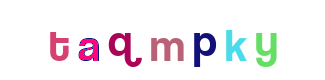A: (82, 0, 162, 80)
K: (185, 0, 265, 80)
M: (121, 0, 201, 80)
P: (147, 0, 227, 80)
Q: (83, 0, 163, 80)
T: (49, 0, 129, 80)
Y: (226, 0, 306, 80)
